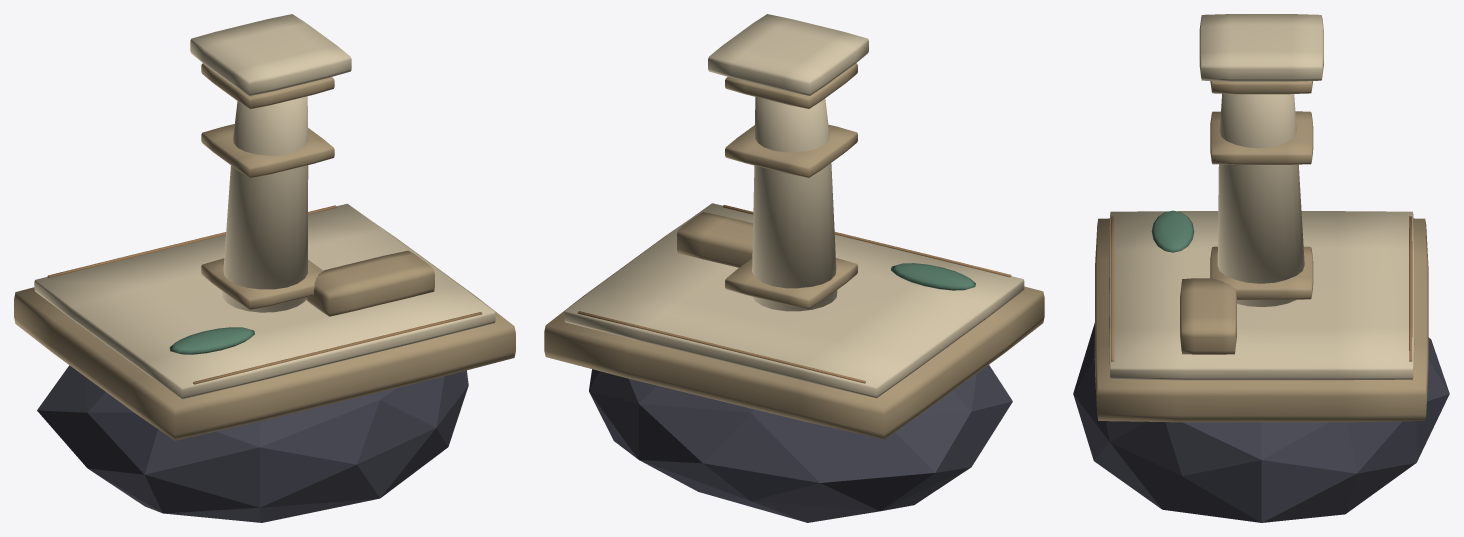
The model's file is Ruin2.glb.
3 views of the same model, side by side, from view 1: azimuth 30°, elevation 25°; view 2: azimuth 150°, elevation 25°; view 3: azimuth 270°, elevation 25° (orthographic). The views are drawn at different scales.
Parts seen in each view (by area): view 1: Ruin2__Body; view 2: Ruin2__Body; view 3: Ruin2__Body.
Part boxes in pixels (left/top/right/bottom): Ruin2__Body: left=14, top=14, right=515, bottom=522; Ruin2__Body: left=544, top=14, right=1044, bottom=522; Ruin2__Body: left=1073, top=14, right=1449, bottom=522.
Size of the model in its own units: 3.55 by 3.95 by 2.97.
Materials: 1 (1 with a texture image).
